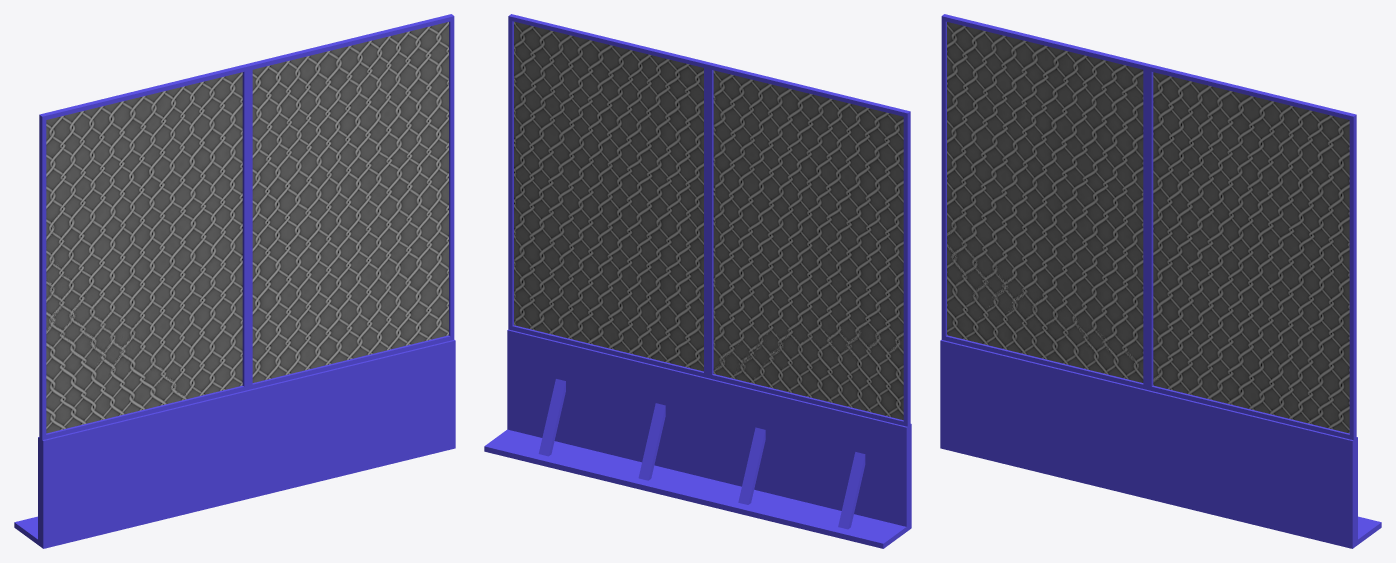
The model's file is Fence_02_Straight.FBX.
The picture shows the model from 3 angles, left to right: view 1: azimuth 30°, elevation 25°; view 2: azimuth 150°, elevation 25°; view 3: azimuth 330°, elevation 25°; orthographic projection. The views are drawn at different scales.
Visible parts, largest first — view 1: Fence_02_Straight; view 2: Fence_02_Straight; view 3: Fence_02_Straight.
Boxes of the visible parts, left/top/right/bottom form: Fence_02_Straight: left=14, top=14, right=455, bottom=548; Fence_02_Straight: left=484, top=14, right=911, bottom=548; Fence_02_Straight: left=940, top=14, right=1381, bottom=548.
Size of the model in its own units: 4 by 4 by 0.49.
Materials: 2 (1 with a texture image).
